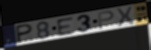3: (76, 13, 94, 34)
8: (36, 21, 51, 40)
E: (56, 16, 77, 38)
P: (16, 23, 35, 45), (97, 10, 115, 30)
X: (115, 6, 136, 28)
